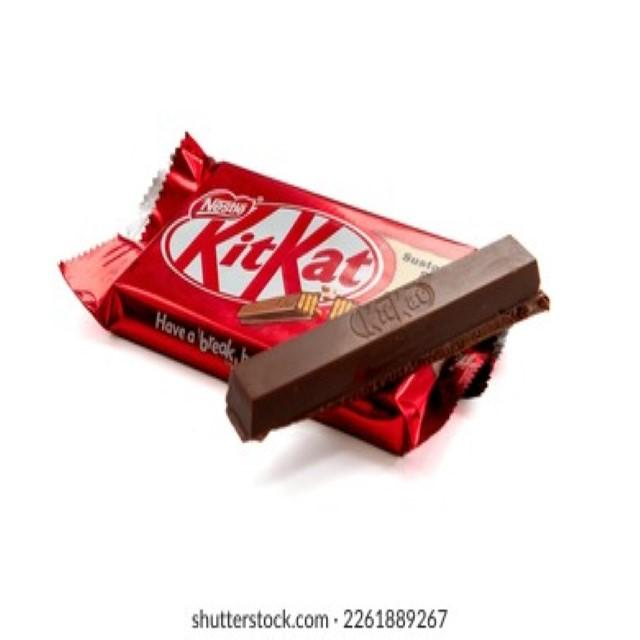kitkat_chocolate: (122, 132, 473, 462)
